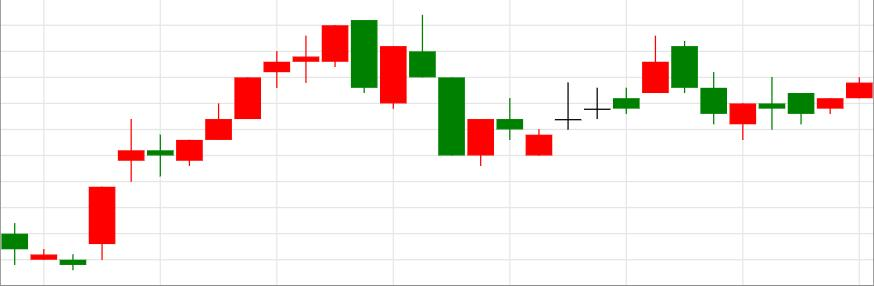bearish_engulfing_fall: (57, 18, 380, 269)
